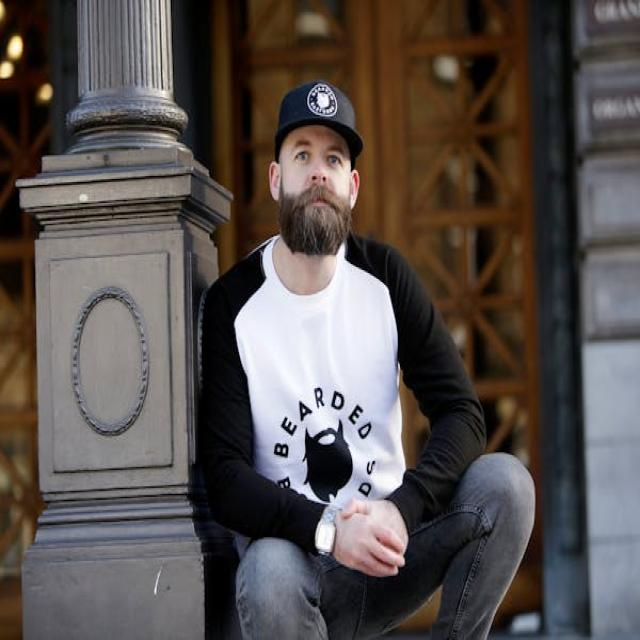Real human 2: (181, 66, 545, 640)
